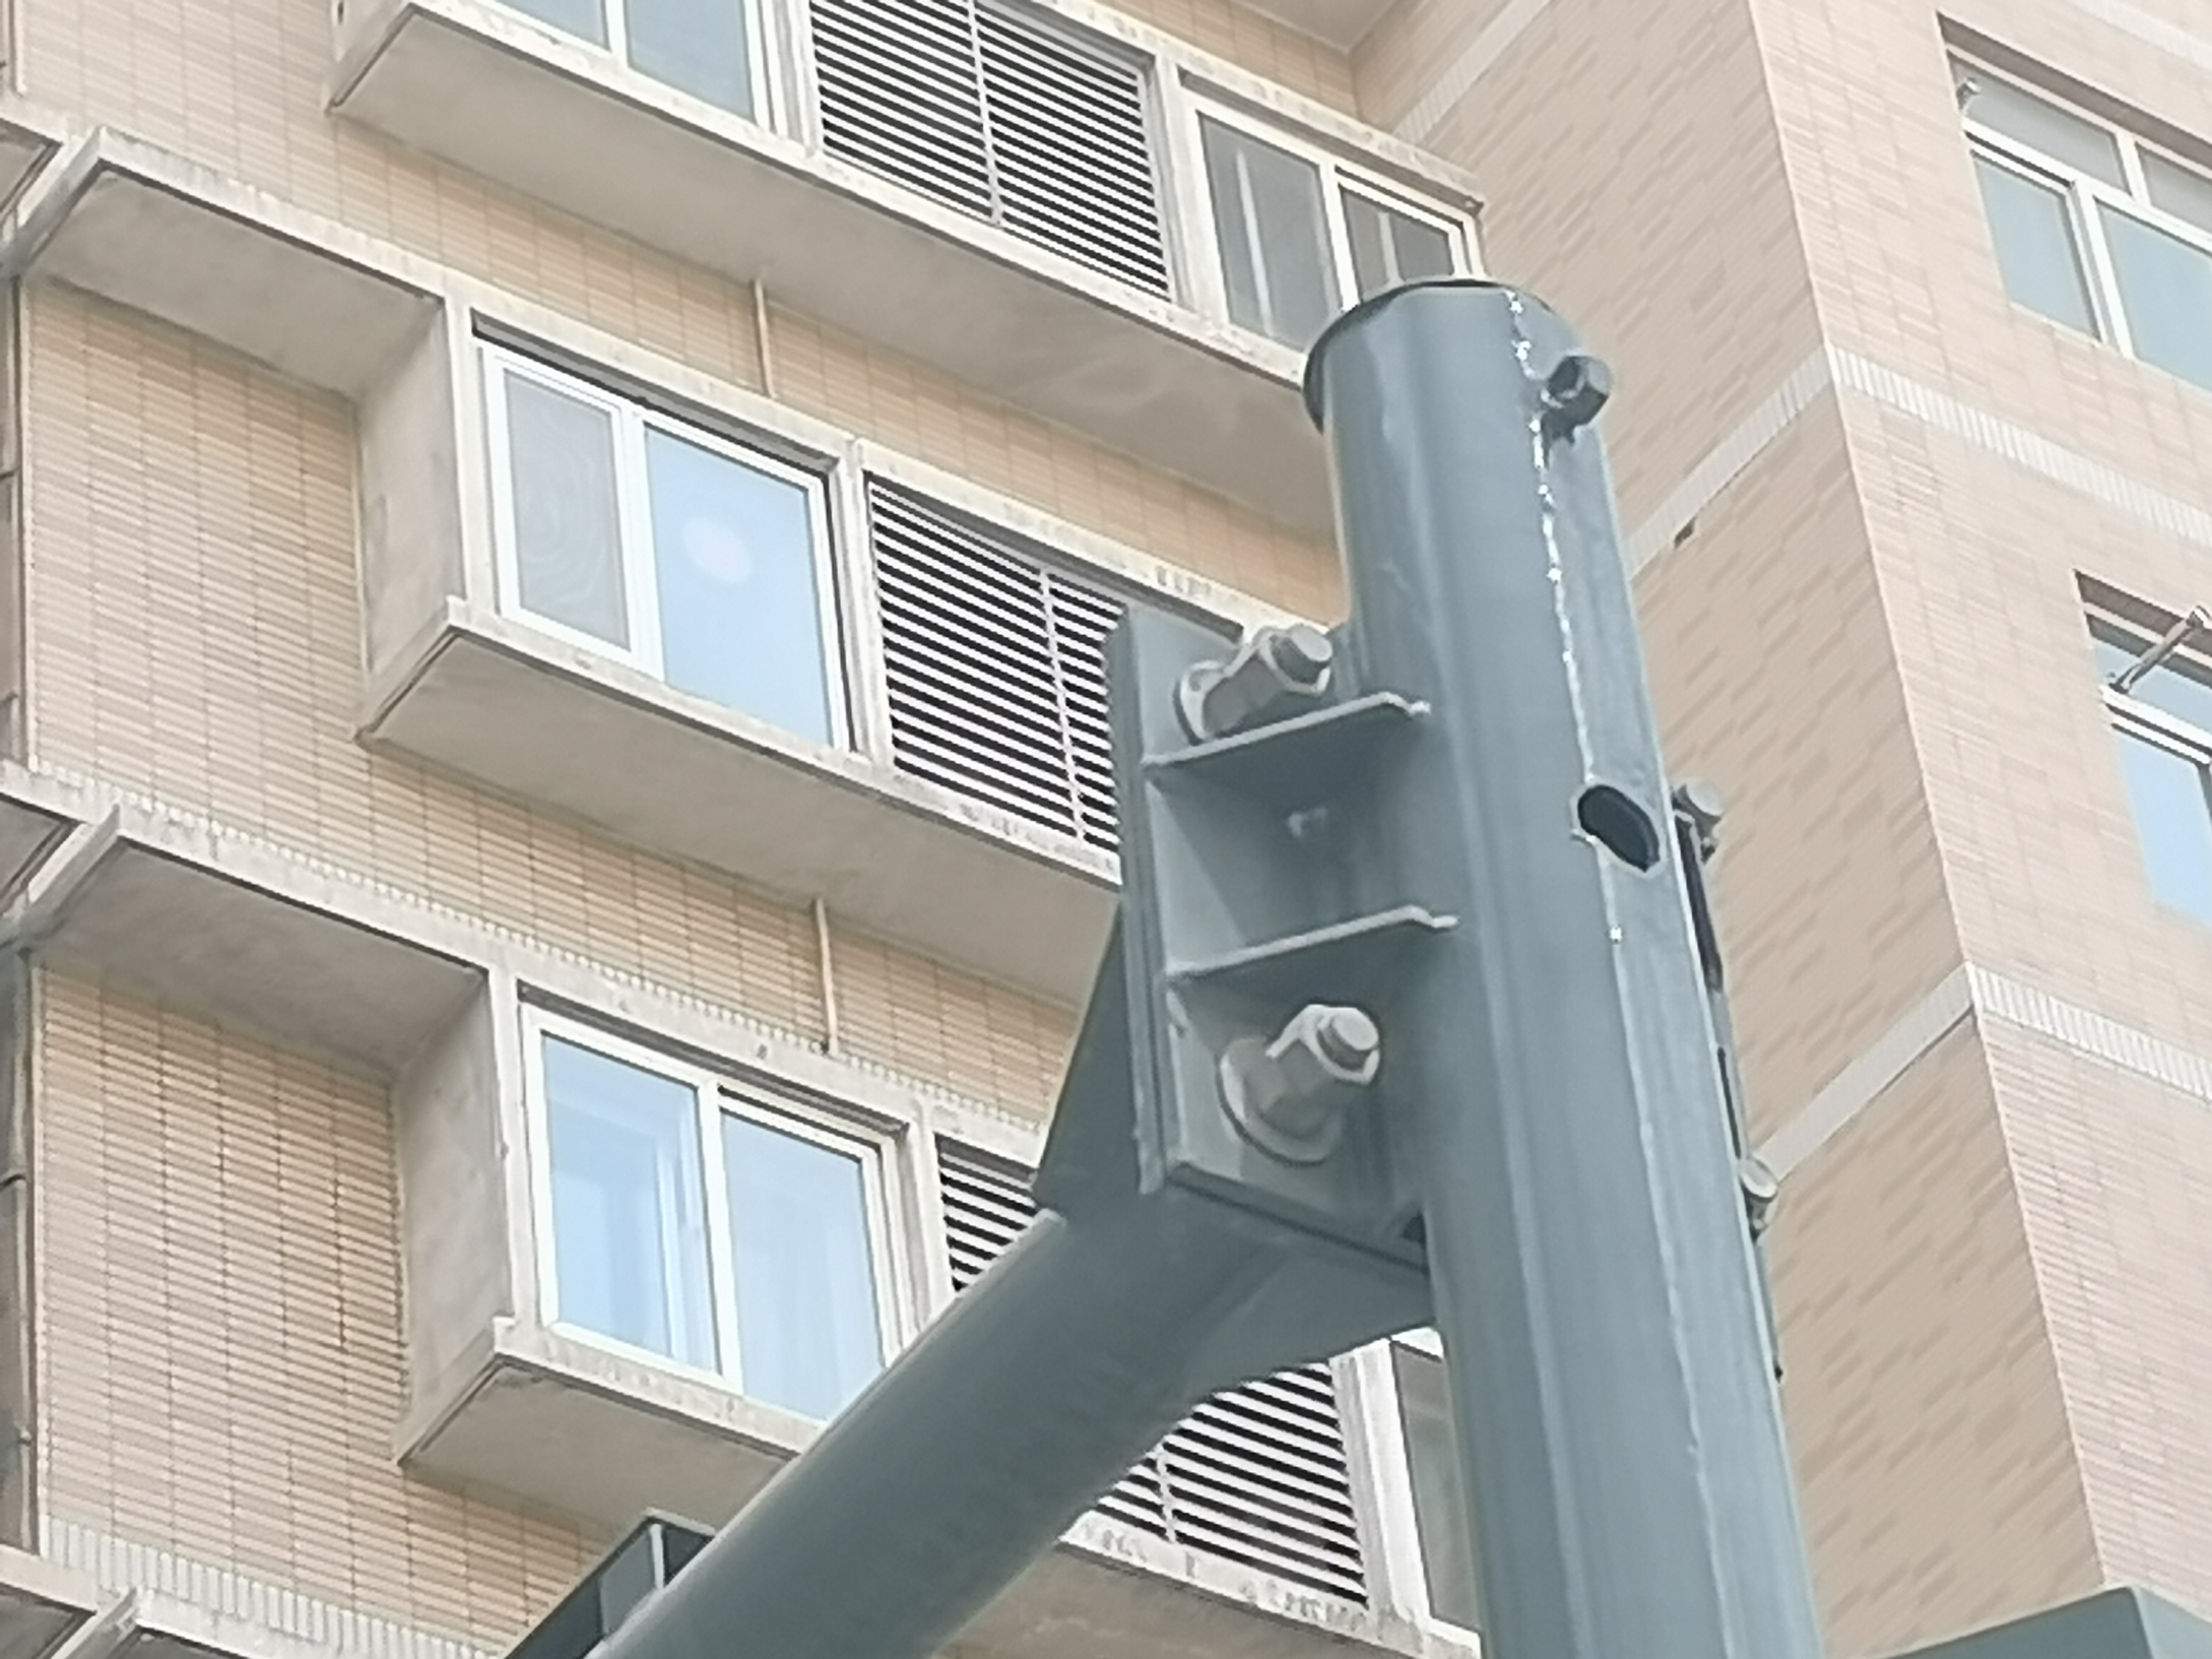bolt_b: (1264, 995, 1388, 1114), (1228, 622, 1336, 725)
